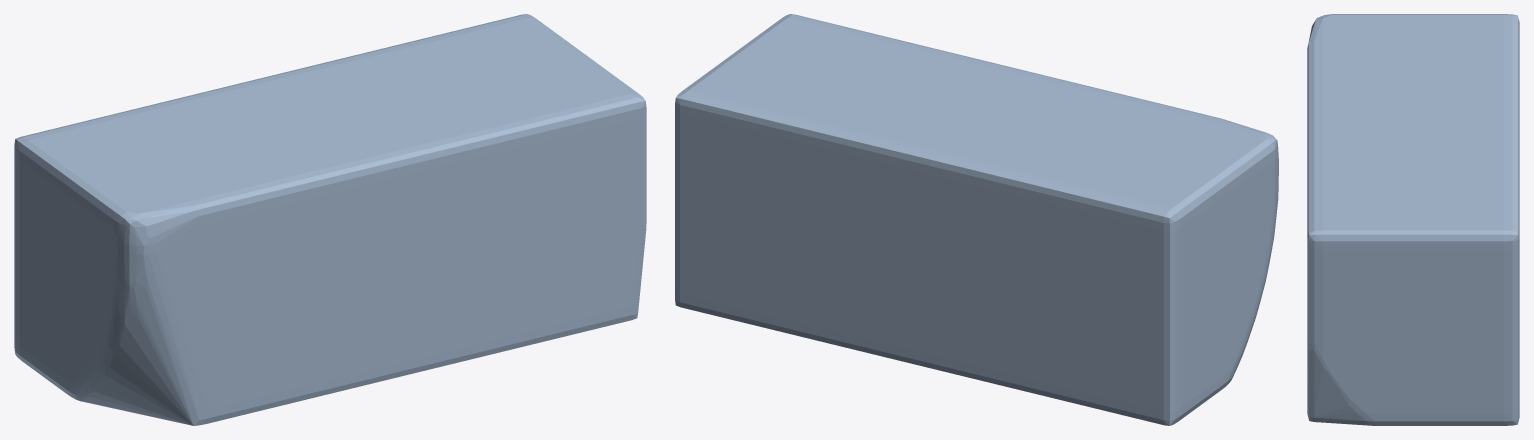
File: right_shoulder_pitch_link_part_6.obj
The picture shows the model from 3 angles, left to right: view 1: azimuth 30°, elevation 25°; view 2: azimuth 150°, elevation 25°; view 3: azimuth 270°, elevation 25°; orthographic projection. The views are drawn at different scales.
Bounding box in the file's own units: 0.0673 × 0.0274 × 0.0271.
